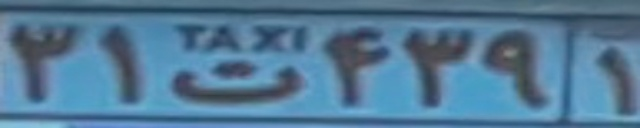1: (97, 28, 148, 105), (592, 47, 637, 116)
3: (8, 23, 83, 104), (404, 30, 473, 107)
4: (323, 30, 389, 107)
9: (489, 28, 549, 108)
te: (167, 56, 304, 102)
